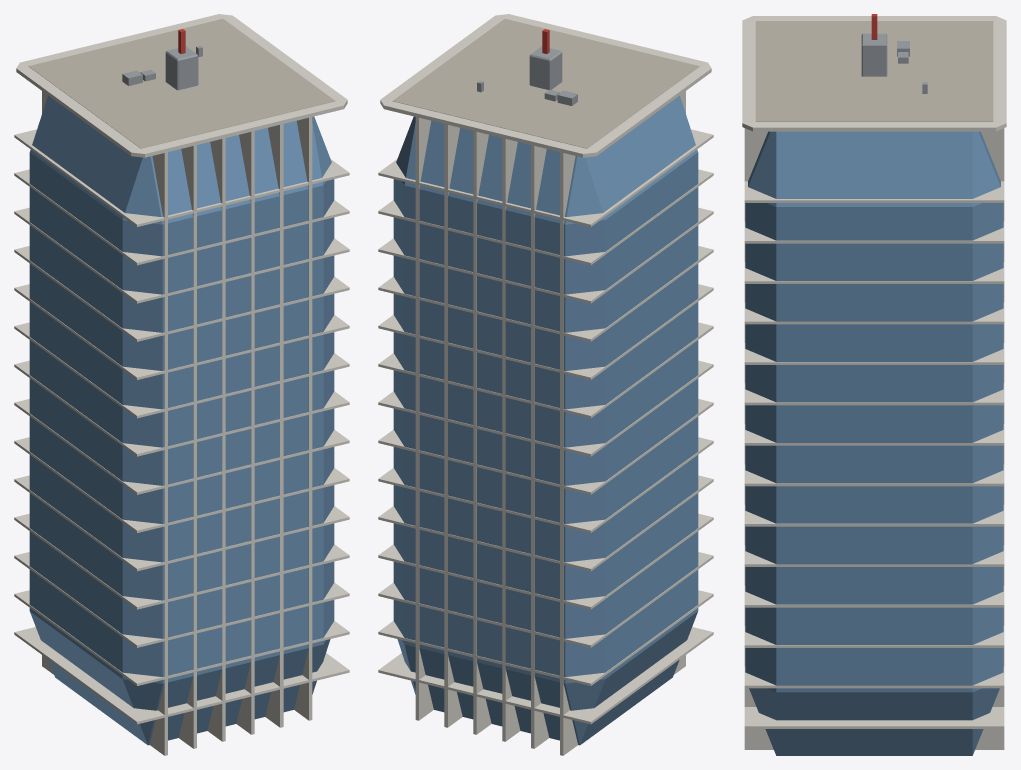
Rendered from tower_grid_h60.glb.
The picture shows the model from 3 angles, left to right: view 1: azimuth 30°, elevation 25°; view 2: azimuth 150°, elevation 25°; view 3: azimuth 270°, elevation 25°; orthographic projection. The views are drawn at different scales.
Parts seen in each view (by area): view 1: glasscore, gridroof, gridlip, mullh, mullv.005, mullv, mullv.002, mullv.003, mullv.004, mullv.001, mullh.013, mullh.008 (+12 smaller); view 2: glasscore, gridroof, gridlip, mullh, mullv.005, mullv, mullv.003, mullv.002, mullv.004, mullv.001, mullh.013, mullh.011 (+12 smaller); view 3: glasscore, gridroof, gridlip, mullv.005, mullh, mullh.013, mullh.006, mullh.008, mullh.001, mullh.010, mullh.003, mullh.012 (+7 smaller).
Part boxes in pixels (box(x1,y1,x2,y2)): glasscore: box(29, 95, 334, 745); gridroof: box(28, 18, 335, 148); gridlip: box(16, 14, 347, 157); mullh: box(14, 627, 349, 724); mullv.005: box(294, 117, 312, 720); mullv: box(42, 91, 167, 755); mullv.002: box(207, 138, 225, 741); mullv.003: box(236, 131, 254, 734); mullv.004: box(265, 124, 283, 727); mullv.001: box(178, 145, 196, 748); mullh.013: box(14, 129, 349, 226); mullh.008: box(14, 322, 349, 418); glasscore: box(393, 95, 698, 745); gridroof: box(392, 18, 699, 148); gridlip: box(380, 14, 711, 157); mullh: box(378, 627, 713, 724); mullv.005: box(415, 117, 433, 720); mullv: box(560, 91, 685, 755); mullv.003: box(473, 131, 491, 734); mullv.002: box(502, 138, 520, 741); mullv.004: box(444, 124, 462, 727); mullv.001: box(531, 145, 549, 748); mullh.013: box(378, 129, 713, 226); mullh.011: box(378, 207, 713, 303); glasscore: box(745, 131, 1003, 755); gridroof: box(755, 21, 993, 121); gridlip: box(742, 16, 1006, 131); mullv.005: box(744, 128, 1004, 749); mullh: box(744, 707, 1004, 728); mullh.013: box(744, 181, 1004, 202); mullh.006: box(744, 464, 1004, 486); mullh.008: box(744, 383, 1004, 405); mullh.001: box(744, 667, 1004, 688); mullh.010: box(744, 303, 1004, 324); mullh.003: box(744, 586, 1004, 607); mullh.012: box(744, 222, 1004, 243).
Bounding box in the file's own units: 22.5 × 65.7 × 22.5.
